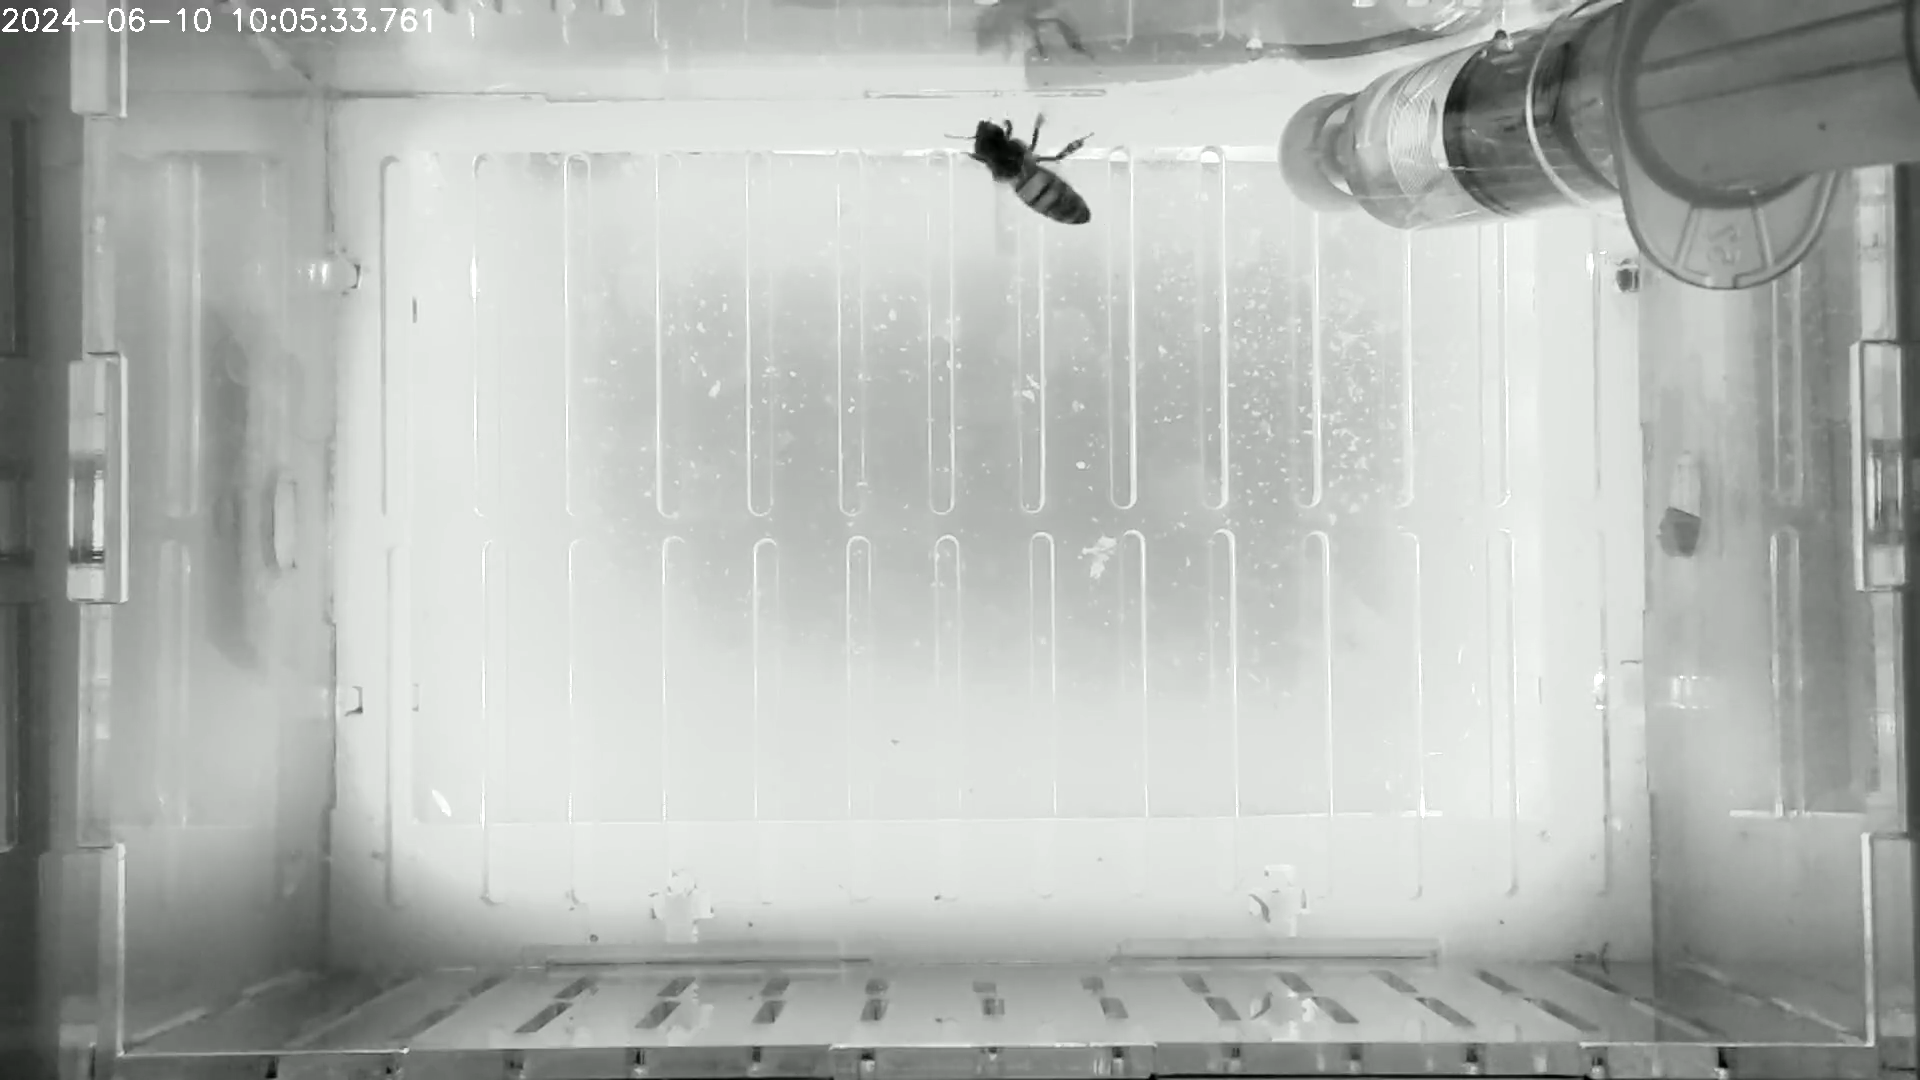bee: (934, 107, 1120, 258)
feeder: (1338, 21, 1598, 235)
